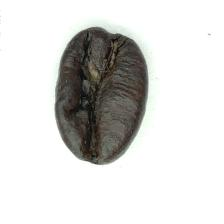NG: (57, 51, 108, 128)
